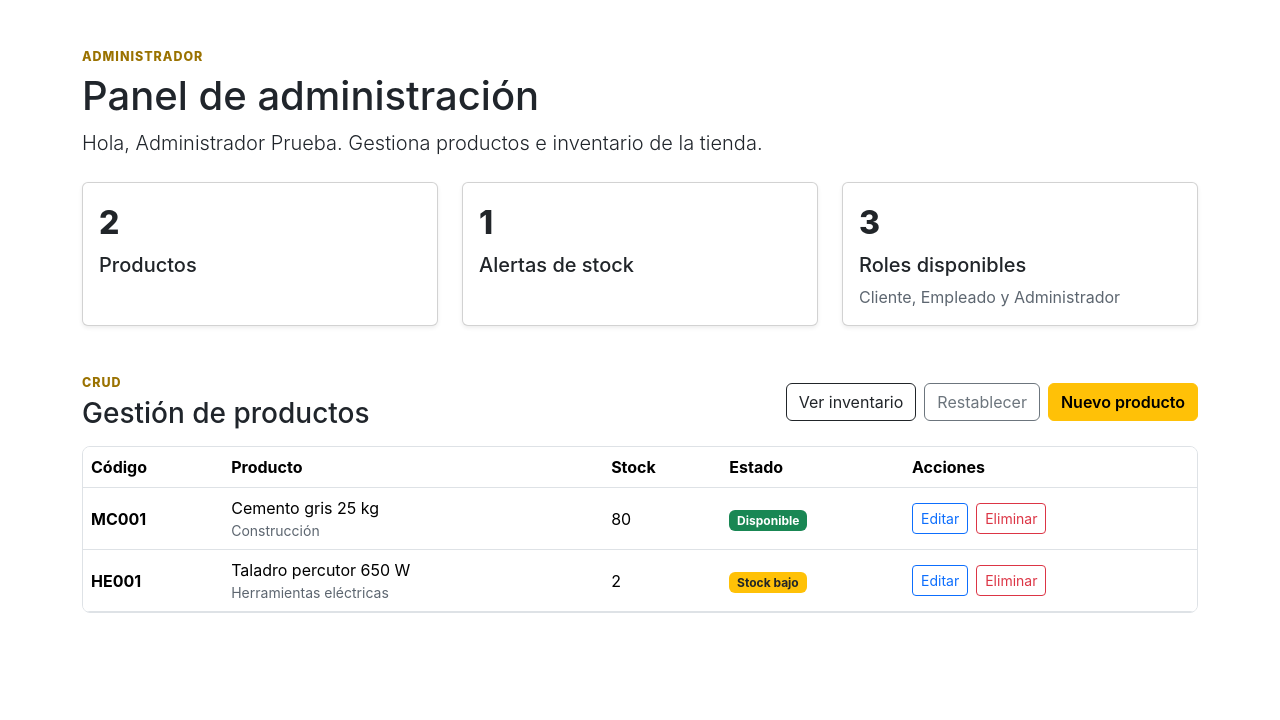
Scenario: Integrante 3 - PanelAdmin › 28. carga un producto existente en el modal y envía sus cambios al actualizar
The image size is (1280, 720).
Step 1. Click the button "Editar" in the row of "MC001" → (940, 519), box [912,503,968,534]
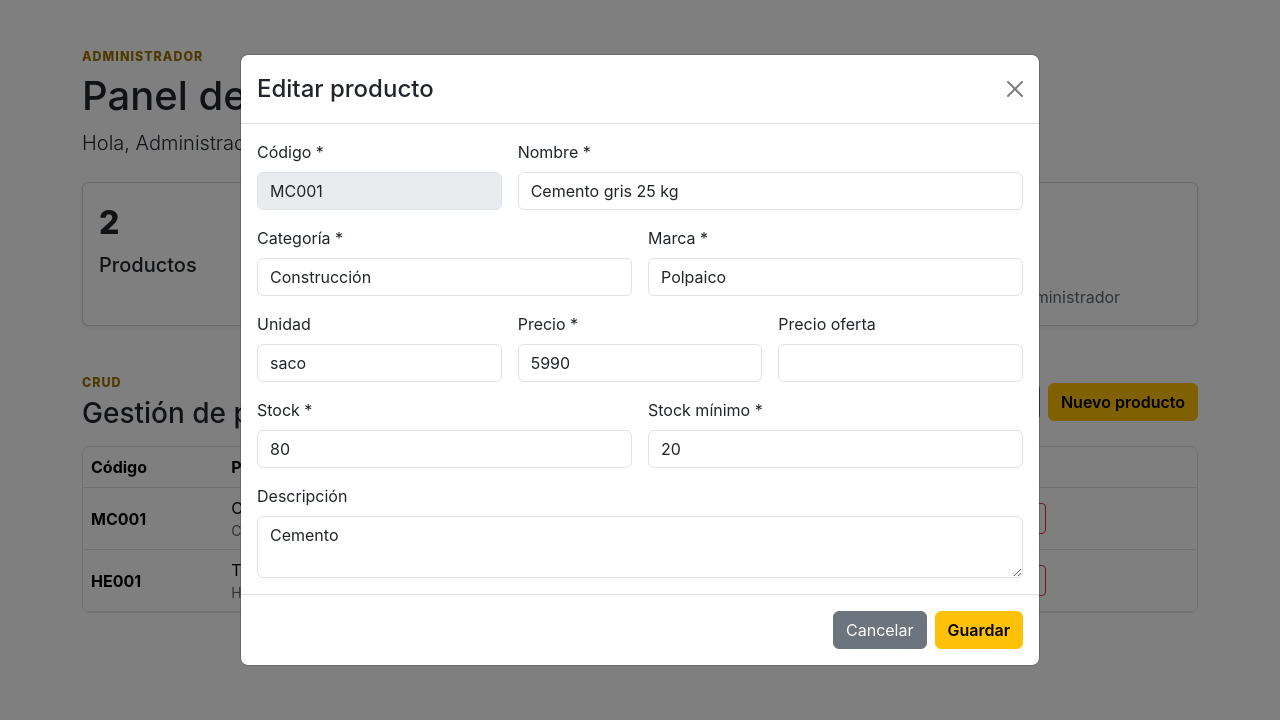
Now the field named "codigo" below "Código *" is disabled, box [257,172,502,210]
Now the number field named "precio" below "Precio *" holds "5990"
Step 2. Replace the text in the number field named "precio" below "Precio *" with "6490" → (640, 363), box [518,344,762,382]
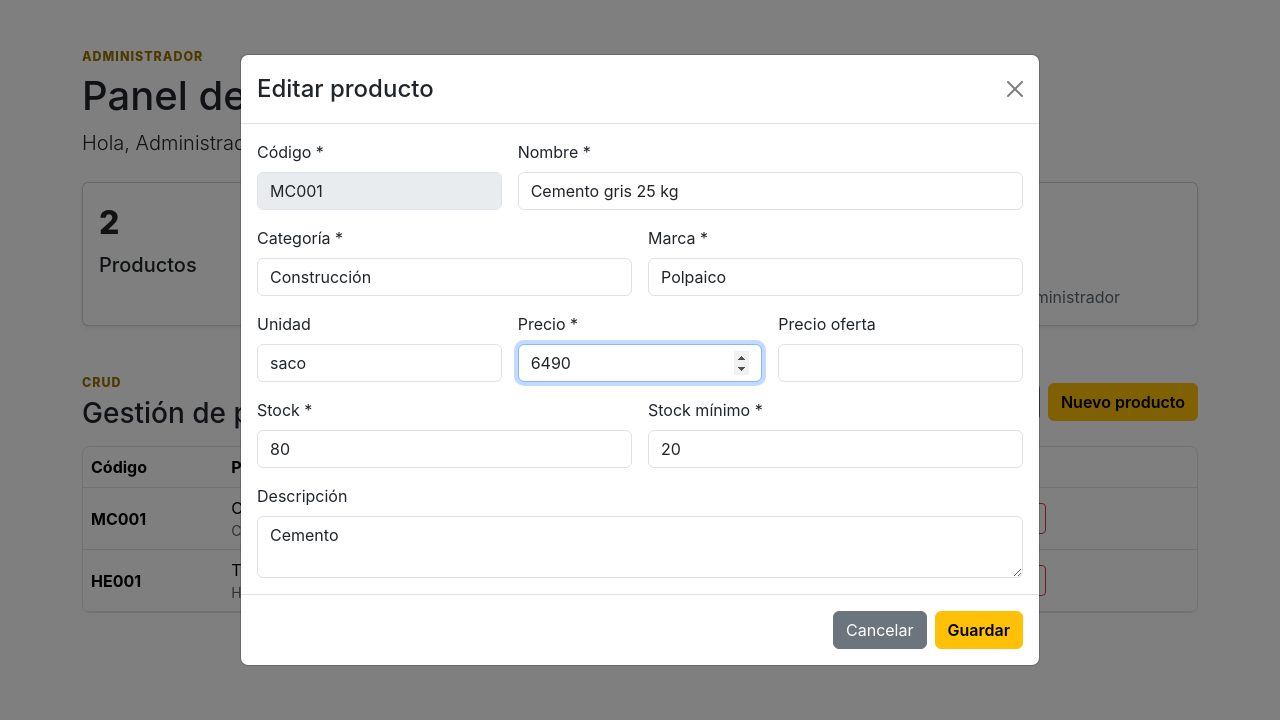
Step 3. Click the button "Guardar" → (979, 630), box [934,611,1023,649]
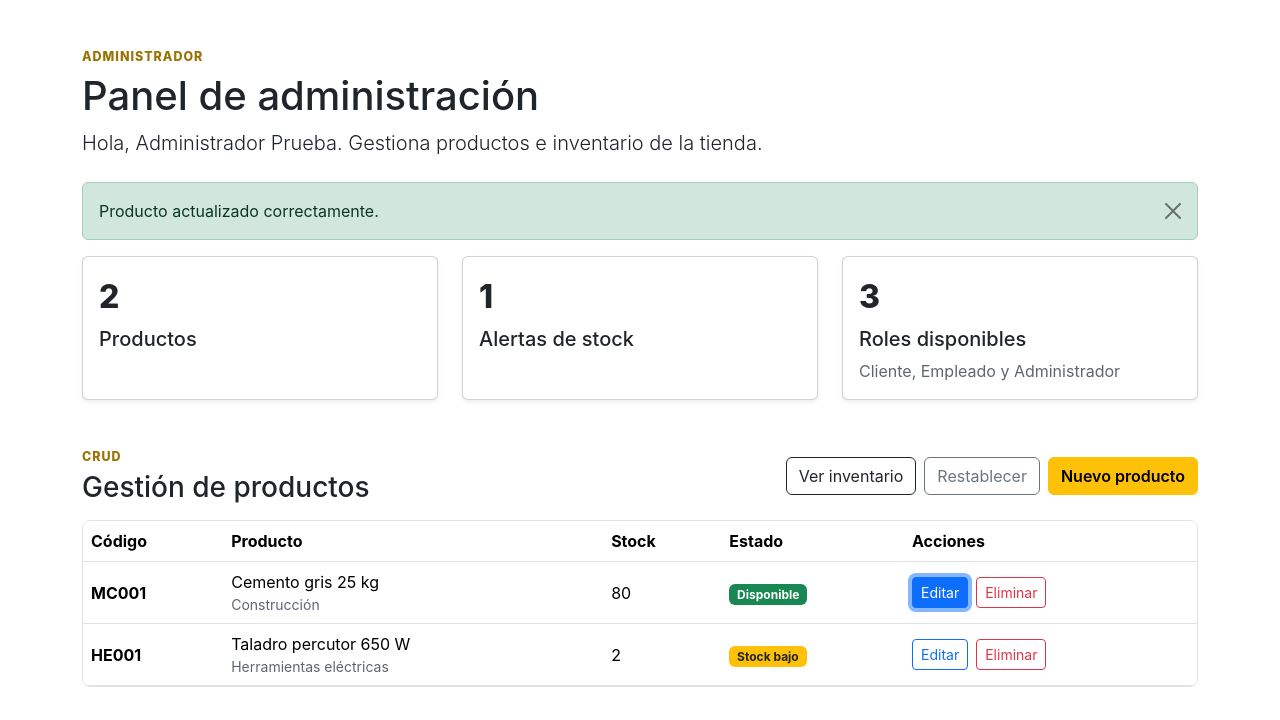
Now the text "Producto actualizado correctamente." is shown, box [82,182,1198,240]
